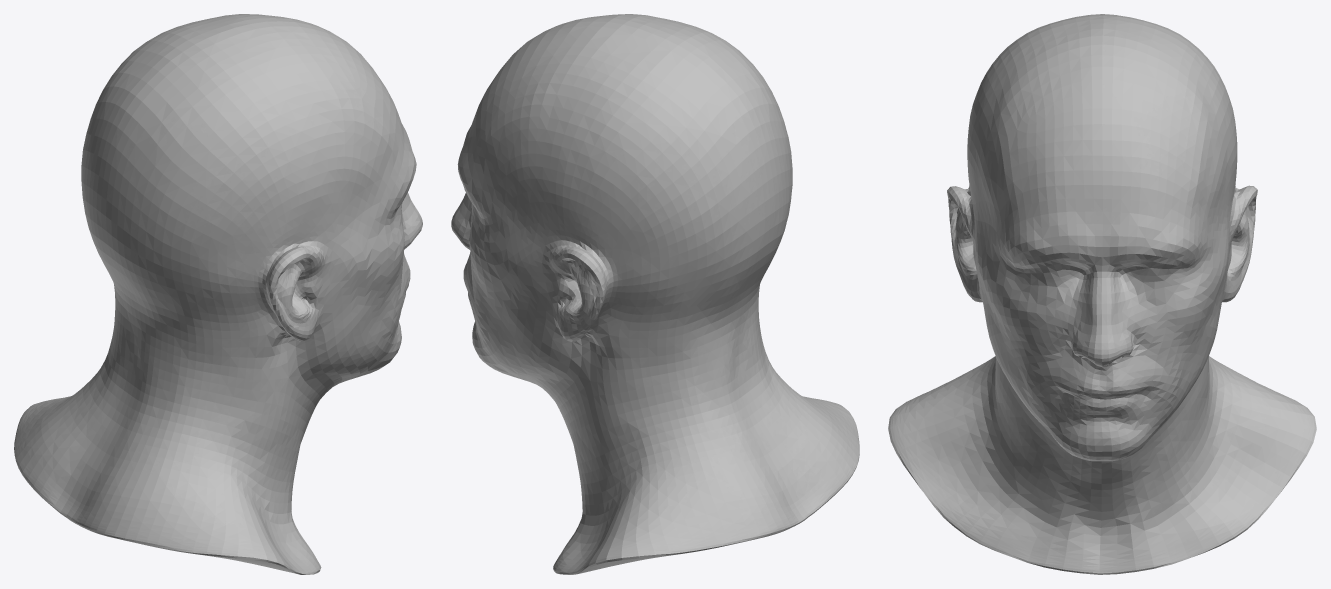
3 views of the same model, side by side, from view 1: azimuth 30°, elevation 25°; view 2: azimuth 150°, elevation 25°; view 3: azimuth 270°, elevation 25° (orthographic).
Parts seen in each view (by area): view 1: tripo_node_d296cdfa-7ac1-44c8-afb3-dfb8507bb671; view 2: tripo_node_d296cdfa-7ac1-44c8-afb3-dfb8507bb671; view 3: tripo_node_d296cdfa-7ac1-44c8-afb3-dfb8507bb671.
Part boxes in pixels (x1,y1,x2,y2): tripo_node_d296cdfa-7ac1-44c8-afb3-dfb8507bb671: [14, 14, 422, 574]; tripo_node_d296cdfa-7ac1-44c8-afb3-dfb8507bb671: [451, 14, 859, 574]; tripo_node_d296cdfa-7ac1-44c8-afb3-dfb8507bb671: [888, 14, 1316, 574].
Bounding box in the file's own units: 0.7211 × 0.9985 × 0.7424.
1 material, 1 textured.
